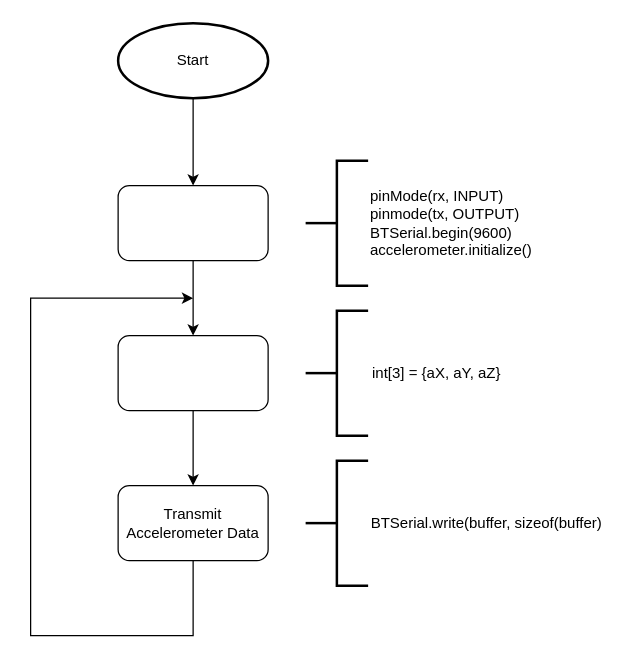
Some shapes in this 628 by 668 pixel diagram are drawn without their labels. The shapes that lost their labels are listed below. From the top down, each one's centre as x and y in pixels, then its label:
At [192,222]: "Setup".
At [192,372]: "Read Accelerometer".
